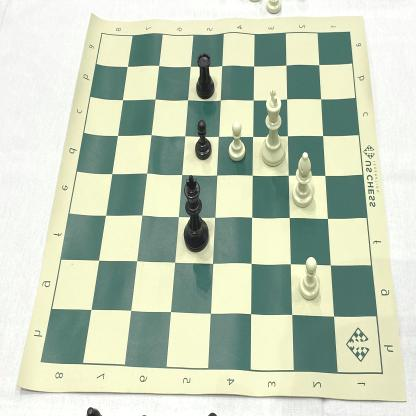black-king: (180, 173, 211, 257)
black-pawn: (260, 89, 285, 170), (194, 120, 213, 164)
black-rook: (194, 51, 217, 102)
white-bishop: (290, 150, 317, 209)
white-pawn: (298, 254, 320, 302), (227, 118, 247, 164)
